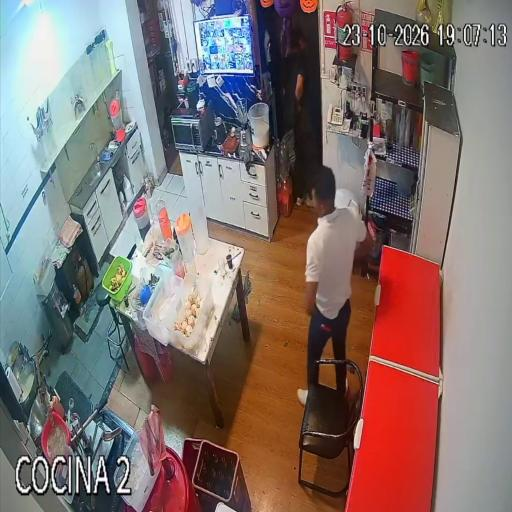Envase Llajua: (52, 394, 64, 417)
Jarra1: (133, 197, 150, 238)
Jarra2: (175, 214, 193, 251)
Jarra3: (191, 203, 209, 249)
Microondas: (170, 106, 214, 151)
Persona4: (305, 167, 366, 385)
Taper2: (125, 266, 169, 335)
Taper3: (143, 270, 183, 345)
Taper4: (161, 273, 214, 359)
